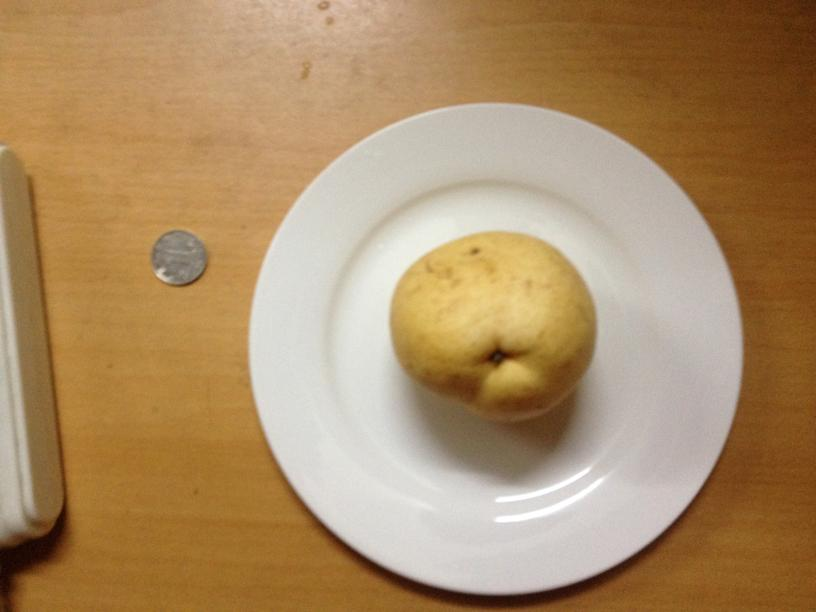coin: (150, 228, 207, 286)
pear: (390, 228, 595, 425)
